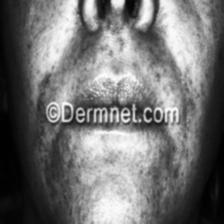Non-Cancerous Skin Condition: (29, 110, 216, 224), (25, 0, 205, 112)
